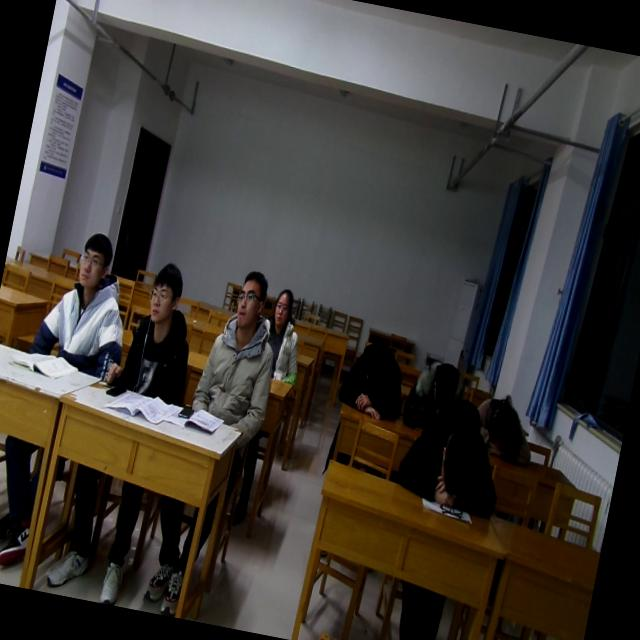bow: (390, 386, 516, 522), (333, 329, 416, 425), (465, 386, 544, 468), (400, 354, 472, 439)
lookup: (141, 256, 189, 330), (71, 228, 120, 300), (229, 262, 274, 330), (267, 286, 300, 332)
sit: (185, 262, 294, 436), (28, 221, 146, 379), (102, 253, 210, 404), (252, 286, 312, 388)
